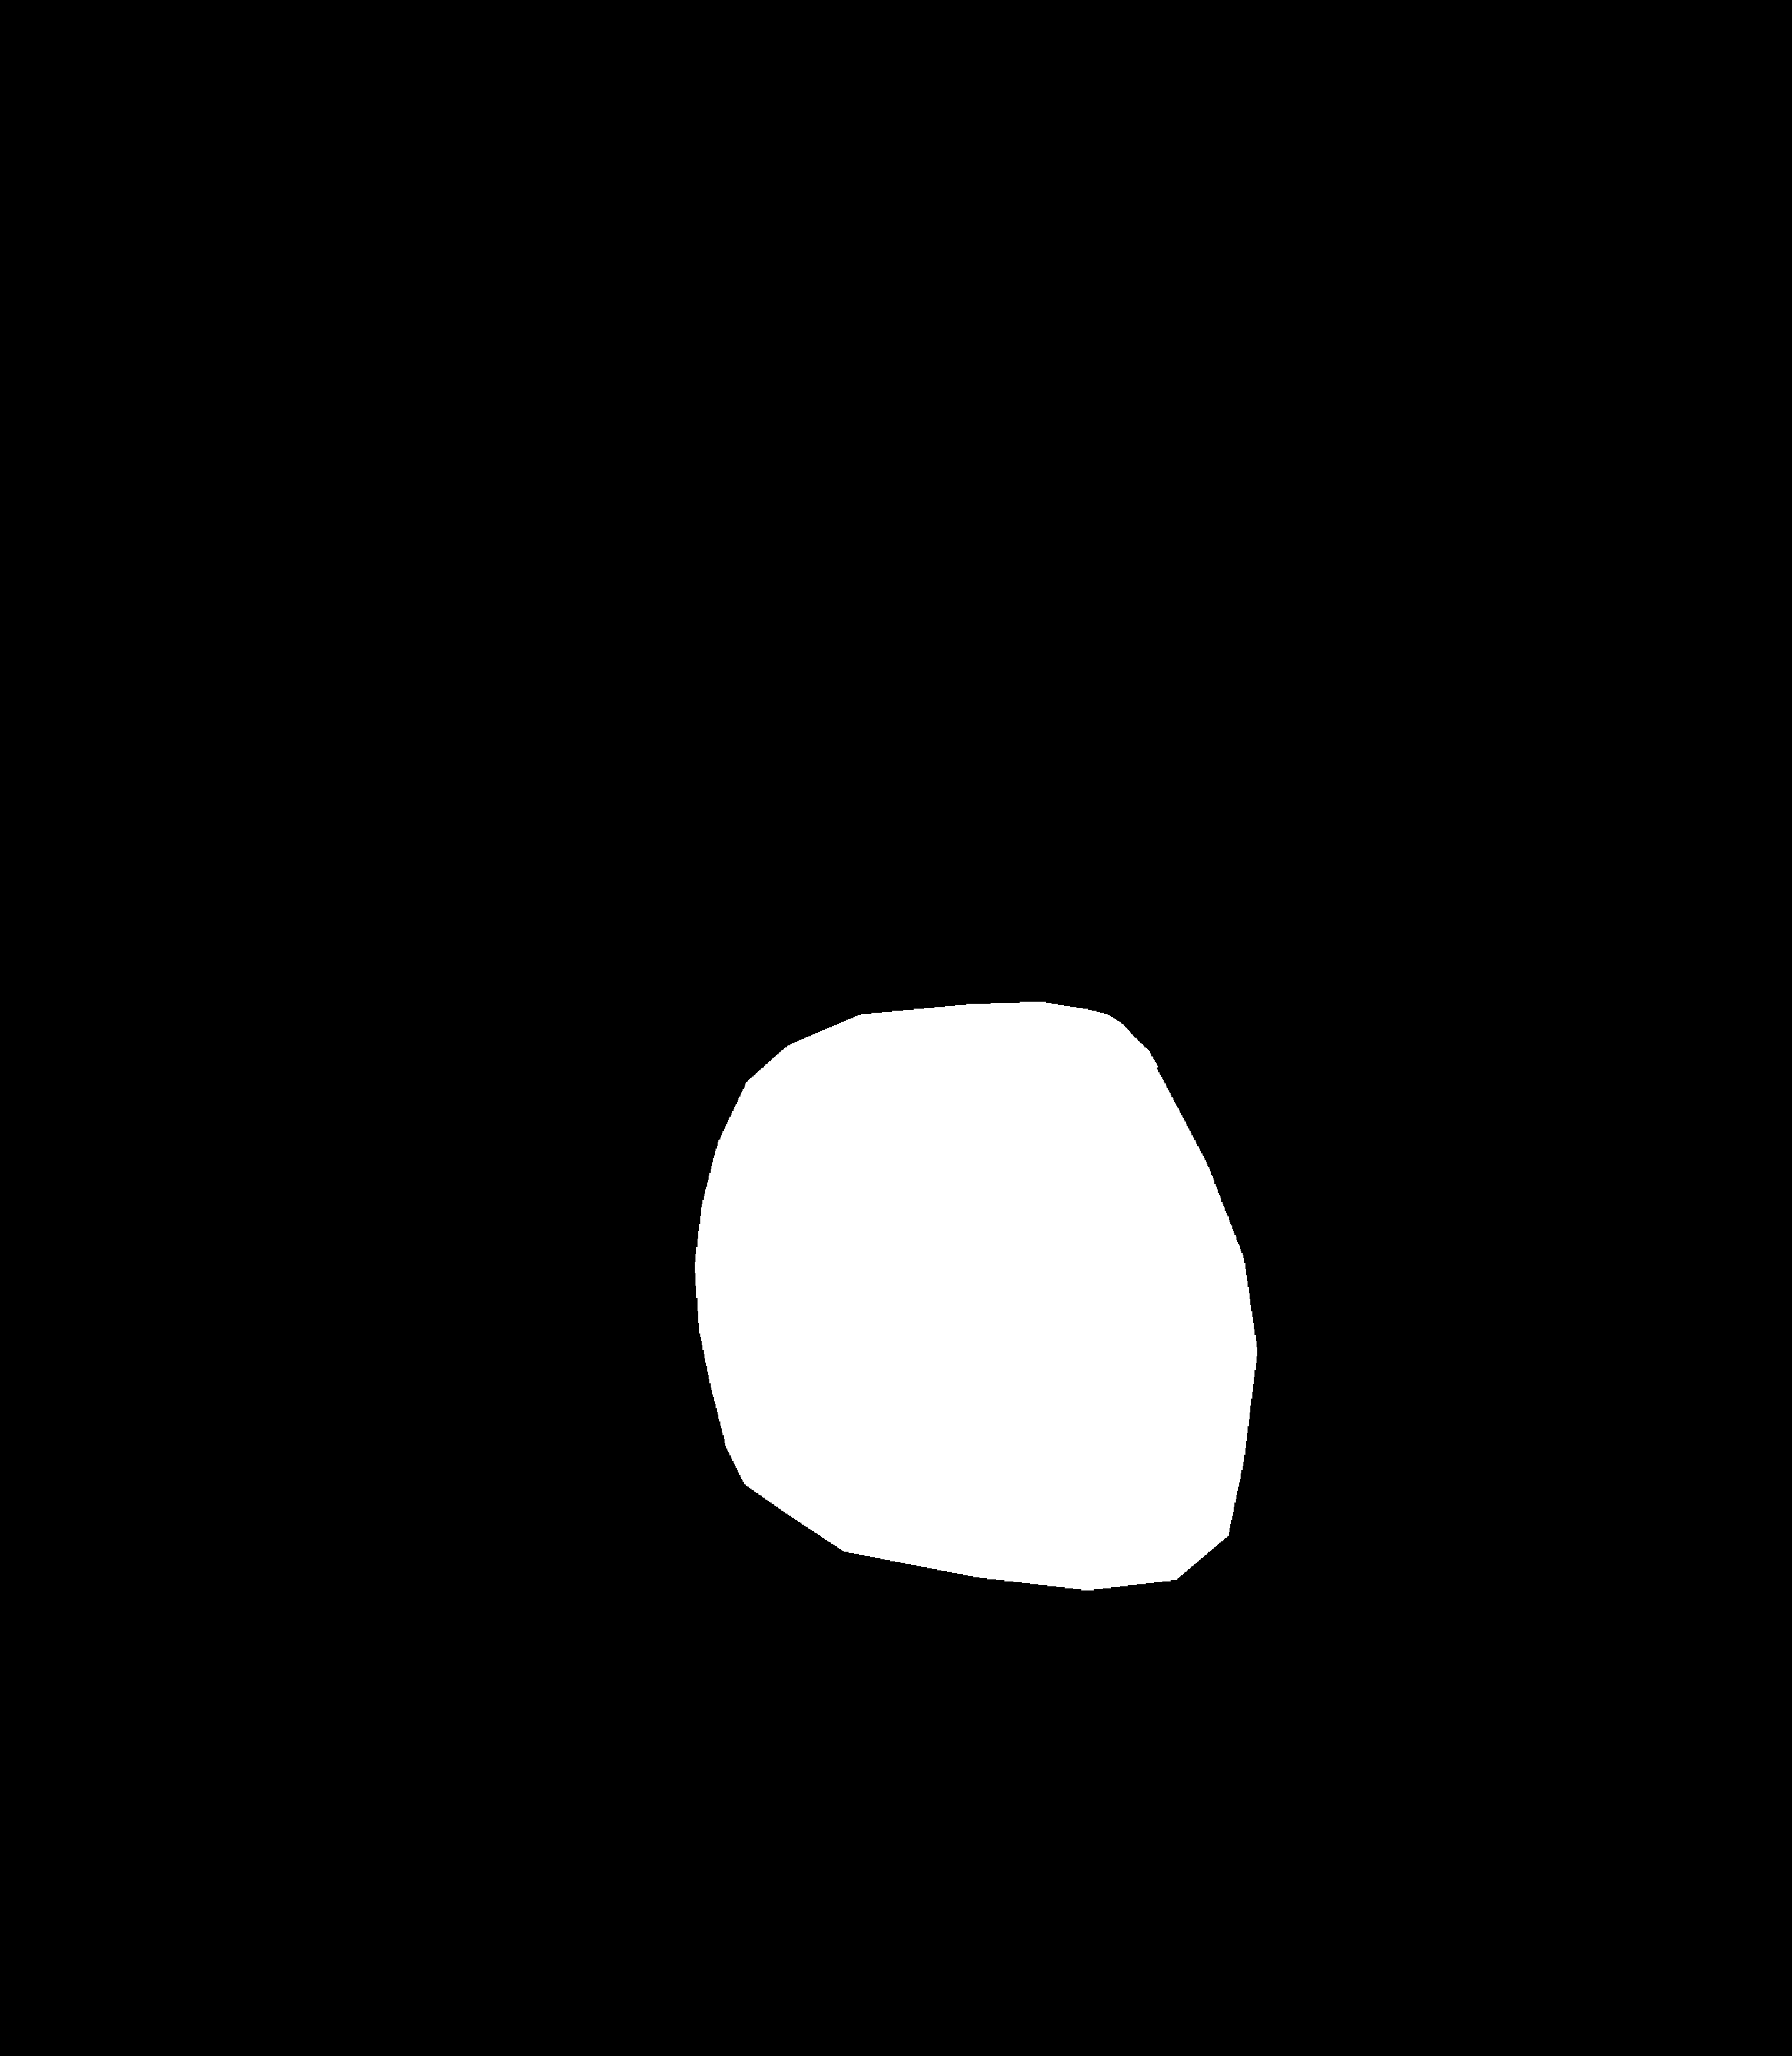heart: (705, 1009, 1248, 1649)
left_lung: (199, 219, 827, 1769)
right_lung: (972, 231, 1563, 1773)
